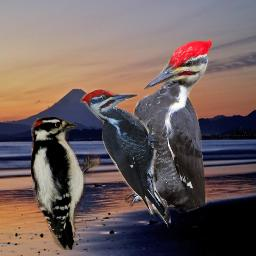Woodpecker: (99, 39, 212, 213), (80, 88, 171, 228), (31, 117, 100, 250)
